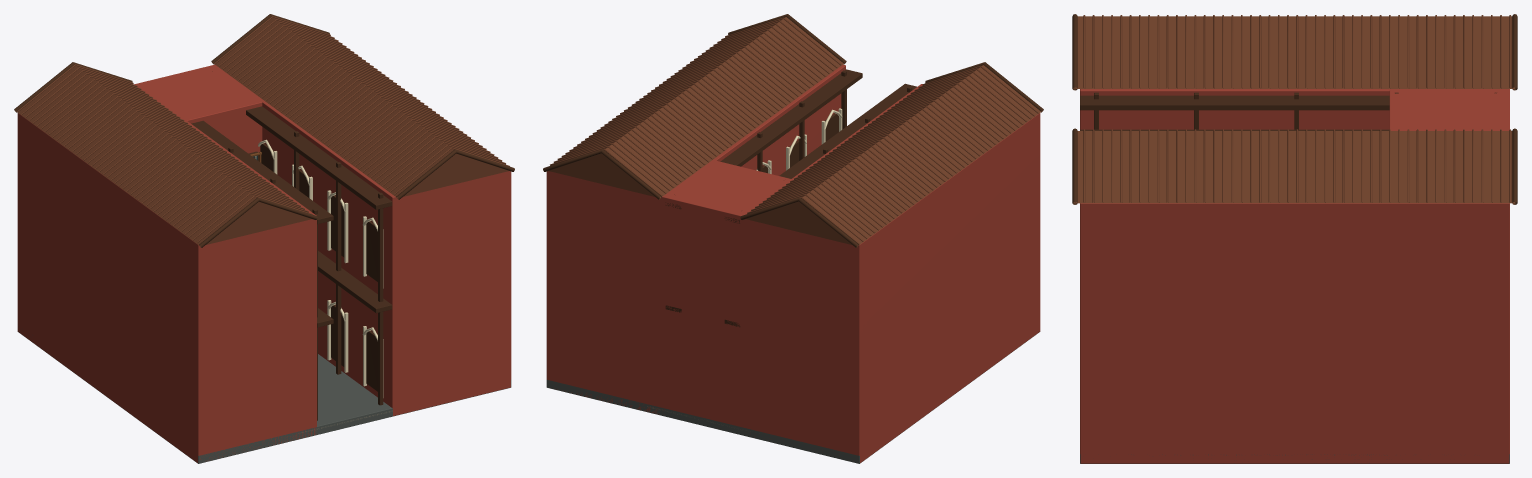
The model's file is courtyard-wada.glb.
3 views of the same model, side by side, from view 1: azimuth 30°, elevation 25°; view 2: azimuth 150°, elevation 25°; view 3: azimuth 270°, elevation 25° (orthographic). The views are drawn at different scales.
Visible parts, largest first — view 1: Surface_Lime_plaster, Surface_Roof_tiles, Surface_Timber, Surface_Basalt, Surface_Trim; view 2: Surface_Lime_plaster, Surface_Roof_tiles, Surface_Timber, Surface_Basalt, Surface_Trim; view 3: Surface_Lime_plaster, Surface_Roof_tiles, Surface_Timber, Surface_Basalt.
Part boxes in pixels (x1,y1,x2,y2): Surface_Lime_plaster: (17, 64, 511, 462); Surface_Roof_tiles: (16, 16, 509, 246); Surface_Timber: (14, 14, 514, 420); Surface_Basalt: (18, 326, 511, 463); Surface_Trim: (255, 139, 383, 397); Surface_Lime_plaster: (546, 64, 1040, 462); Surface_Roof_tiles: (549, 17, 1042, 246); Surface_Timber: (543, 14, 1043, 327); Surface_Basalt: (546, 332, 1039, 463); Surface_Trim: (756, 108, 842, 173); Surface_Lime_plaster: (1080, 89, 1509, 463); Surface_Roof_tiles: (1074, 15, 1514, 203); Surface_Timber: (1072, 14, 1517, 204); Surface_Basalt: (1080, 454, 1509, 463).
Bounding box in the file's own units: 13.08 × 10.08 × 13.46.
